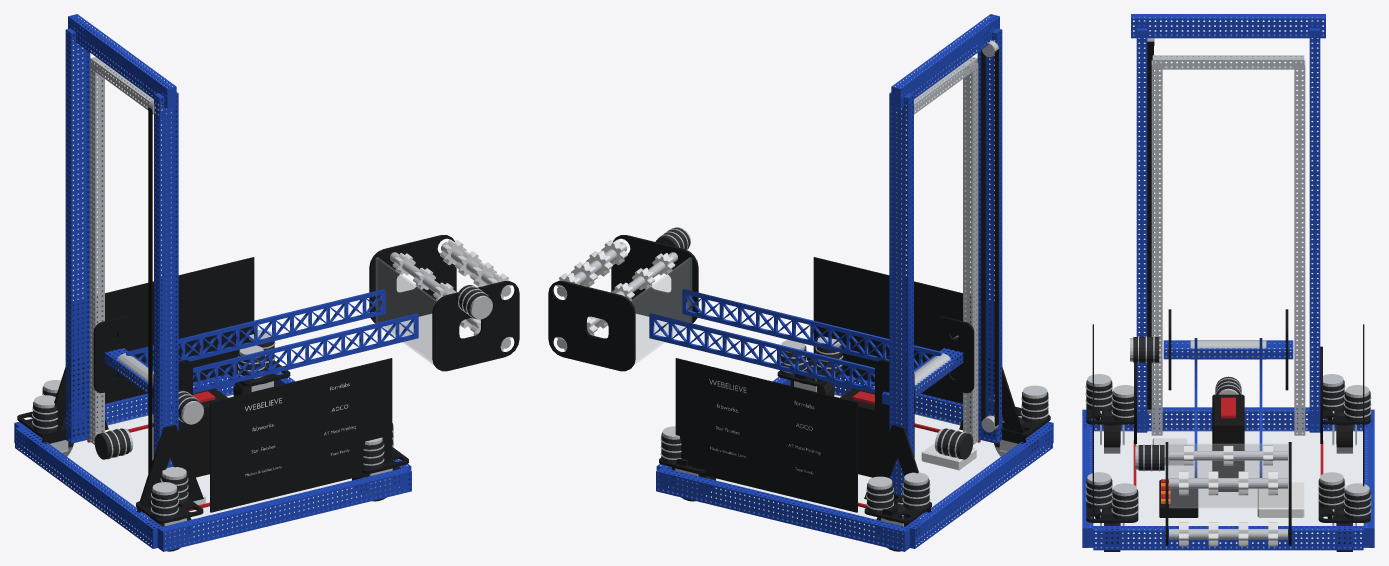
3 renders of one model, left to right at view 1: azimuth 30°, elevation 25°; view 2: azimuth 150°, elevation 25°; view 3: azimuth 270°, elevation 25°, orthographic. The views are drawn at different scales.
Visible parts, largest first — view 1: body.blue_tube, body.black, grab.black, boom.blue_anodized, stage.aluminum_tube, body.polycarb, body.kraken, grab.polycarb, car.black, body.kraken_cap, grab.white_wheel, body.belt (+5 smaller); view 2: body.black, body.blue_tube, grab.black, boom.blue_anodized, stage.aluminum_tube, body.polycarb, body.belt, body.kraken, car.black, grab.polycarb, body.kraken_cap, grab.white_wheel (+6 smaller); view 3: body.blue_tube, body.polycarb, stage.aluminum_tube, body.kraken, grab.polycarb, body.black, body.kraken_cap, grab.aluminum, grab.white_wheel, body.battery, car.blue_tube, body.belt (+11 smaller).
Part boxes in pixels (<box>): body.blue_tube: <box>14,14,411,551</box>; body.black: <box>17,257,408,542</box>; grab.black: <box>369,235,519,371</box>; boom.blue_anodized: <box>126,289,418,393</box>; stage.aluminum_tube: <box>89,56,171,463</box>; body.polycarb: <box>24,392,399,548</box>; body.kraken: <box>33,338,393,519</box>; grab.polycarb: <box>376,257,436,364</box>; car.black: <box>93,316,192,432</box>; body.kraken_cap: <box>32,329,393,515</box>; grab.white_wheel: <box>392,239,511,350</box>; body.belt: <box>148,107,152,473</box>; body.black: <box>659,257,1050,542</box>; body.blue_tube: <box>656,14,1053,551</box>; grab.black: <box>548,235,698,371</box>; boom.blue_anodized: <box>649,289,941,393</box>; stage.aluminum_tube: <box>896,56,978,494</box>; body.polycarb: <box>663,392,1043,548</box>; body.belt: <box>981,49,998,426</box>; body.kraken: <box>661,345,1048,514</box>; car.black: <box>875,316,974,432</box>; grab.polycarb: <box>631,257,691,364</box>; body.kraken_cap: <box>660,336,1048,510</box>; grab.white_wheel: <box>556,239,675,350</box>; body.blue_tube: <box>1082,14,1374,550</box>; body.polycarb: <box>1088,428,1368,547</box>; stage.aluminum_tube: <box>1151,55,1305,435</box>; body.kraken: <box>1086,376,1370,520</box>; grab.polycarb: <box>1169,444,1287,507</box>; body.black: <box>1086,324,1370,525</box>; body.kraken_cap: <box>1085,374,1371,516</box>; grab.aluminum: <box>1169,451,1287,539</box>; grab.white_wheel: <box>1179,445,1277,546</box>; body.battery: <box>1212,394,1244,491</box>; car.blue_tube: <box>1163,340,1293,359</box>; body.belt: <box>1147,41,1153,409</box>.
Size of the model in its own units: 1.07 by 1.14 by 0.6858.
Materials: 16 (2 with a texture image).
